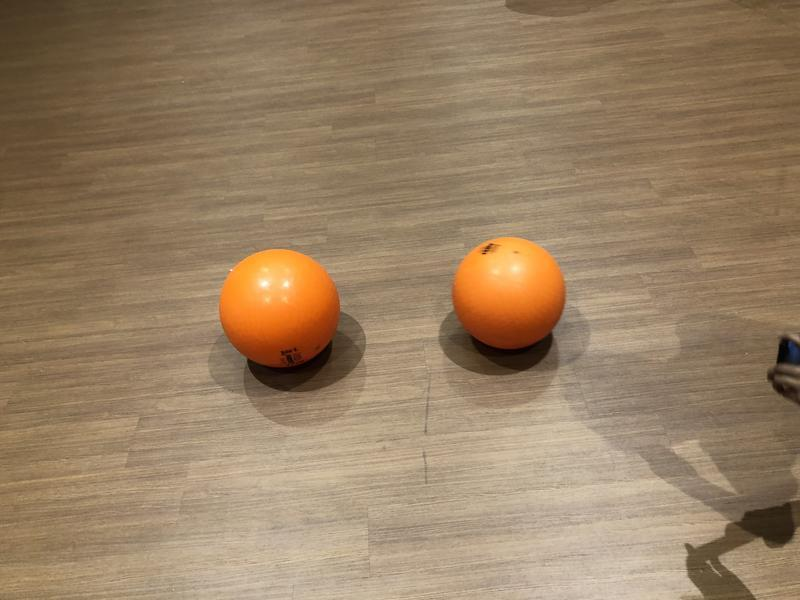ball: (220, 248, 341, 369), (451, 235, 568, 351)
